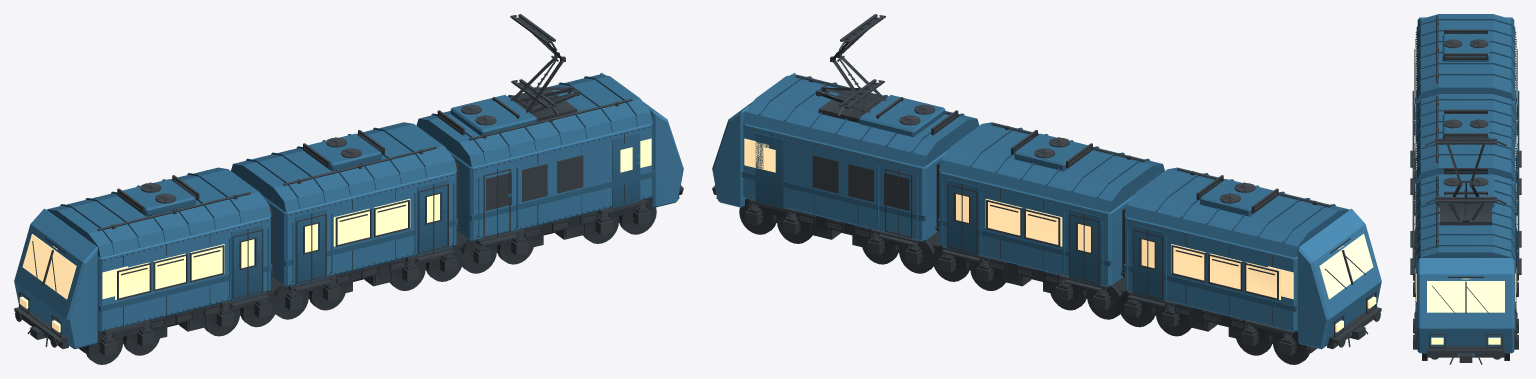
Rendered from transit-train-near.glb.
3 renders of one model, left to right at view 1: azimuth 30°, elevation 25°; view 2: azimuth 150°, elevation 25°; view 3: azimuth 270°, elevation 25°, orthographic. The views are drawn at different scales.
Parts seen in each view (by area): view 1: TrainNear, PantographRaisedNear, PantographLoweredNear; view 2: TrainNear, PantographRaisedNear, PantographLoweredNear; view 3: TrainNear, PantographRaisedNear, PantographLoweredNear.
Boxes of the visible parts, x1=… form: TrainNear: x1=14, y1=72, x2=683, y2=364; PantographRaisedNear: x1=510, y1=14, x2=565, y2=112; PantographLoweredNear: x1=511, y1=79, x2=579, y2=115; TrainNear: x1=712, y1=72, x2=1381, y2=364; PantographRaisedNear: x1=830, y1=14, x2=886, y2=112; PantographLoweredNear: x1=816, y1=79, x2=884, y2=115; TrainNear: x1=1410, y1=14, x2=1521, y2=364; PantographRaisedNear: x1=1425, y1=138, x2=1506, y2=204; PantographLoweredNear: x1=1425, y1=196, x2=1506, y2=225.
Size of the model in its own units: 12.39 by 3.91 by 2.14.
